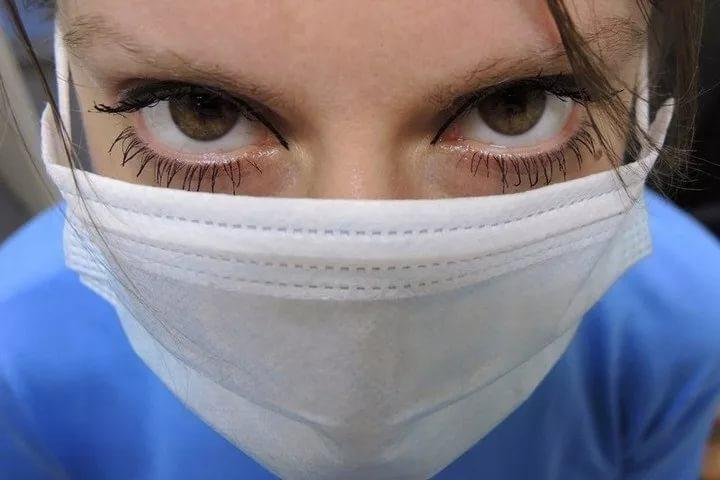mask: (50, 1, 641, 480)
